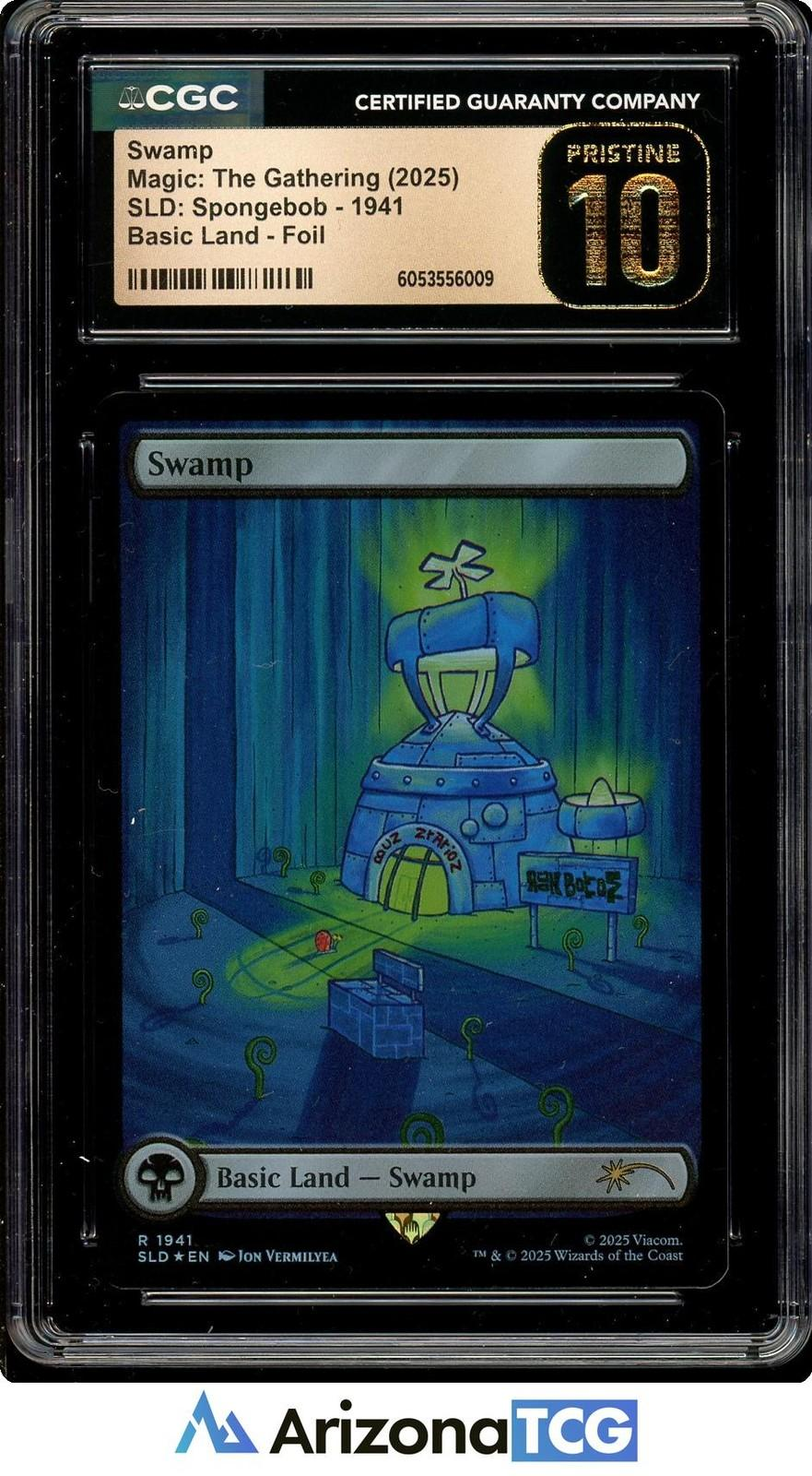card-2UtV: (94, 389, 729, 1290)
